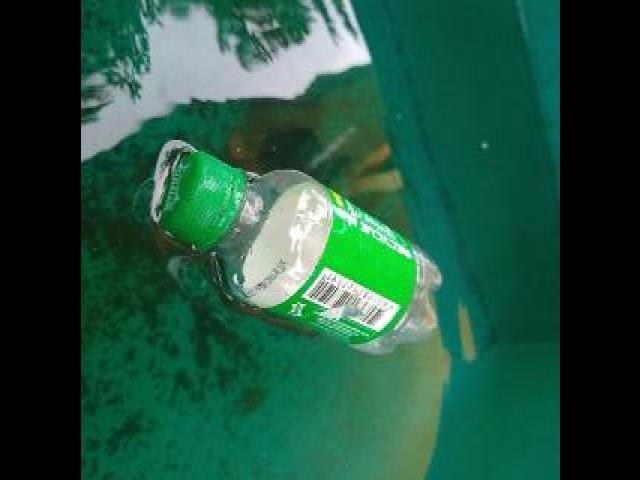Bottle: (149, 134, 445, 362)
